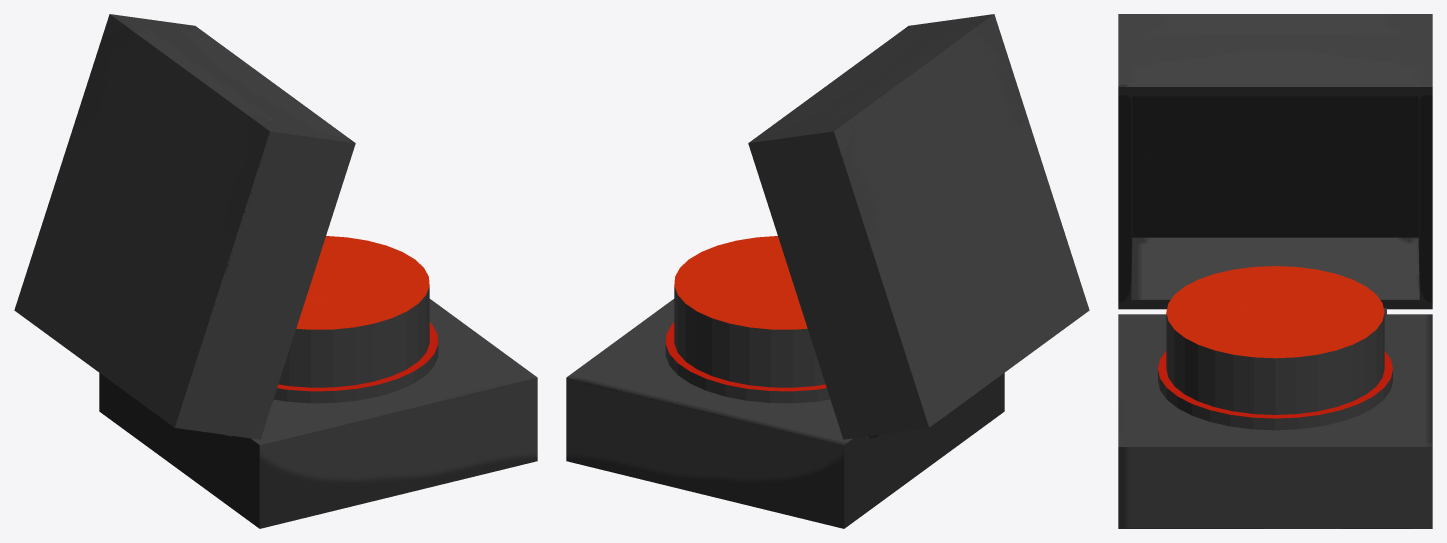
The model's file is button.fbx.
The picture shows the model from 3 angles, left to right: view 1: azimuth 30°, elevation 25°; view 2: azimuth 150°, elevation 25°; view 3: azimuth 270°, elevation 25°; orthographic projection. The views are drawn at different scales.
Visible parts, largest first — view 1: Cylinder.001; view 2: Cylinder.001; view 3: Cylinder.001.
Boxes of the visible parts, left/top/right/bottom form: Cylinder.001: left=14, top=14, right=537, bottom=528; Cylinder.001: left=566, top=14, right=1089, bottom=528; Cylinder.001: left=1118, top=14, right=1432, bottom=528.
Size of the model in its own units: 261 by 272 by 200.
